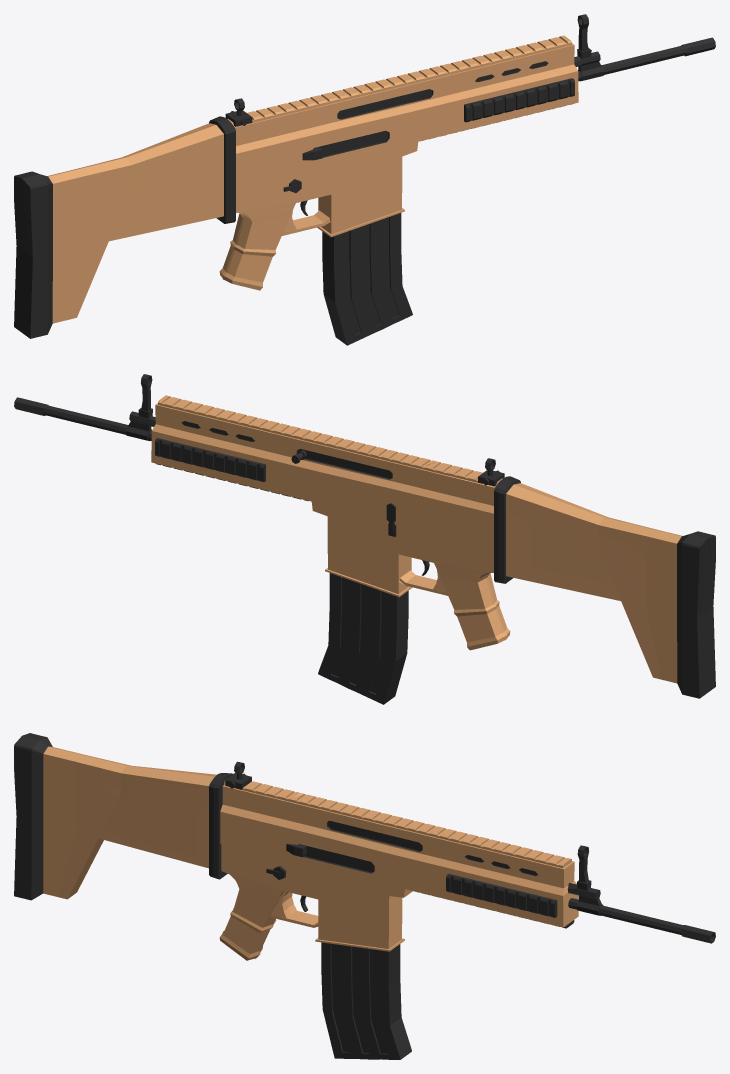
The model's file is Arma.fbx.
3 views of the same model, one above another, from view 1: azimuth 30°, elevation 25°; view 2: azimuth 150°, elevation 25°; view 3: azimuth 330°, elevation 25° (orthographic).
Parts seen in each view (by area): view 1: scar; view 2: scar; view 3: scar.
Boxes of the visible parts, bbox=[...] form: scar: bbox=[14, 14, 715, 345]; scar: bbox=[14, 374, 715, 704]; scar: bbox=[14, 733, 715, 1059].
Size of the model in its own units: 74.64 by 27.58 by 4.34.
